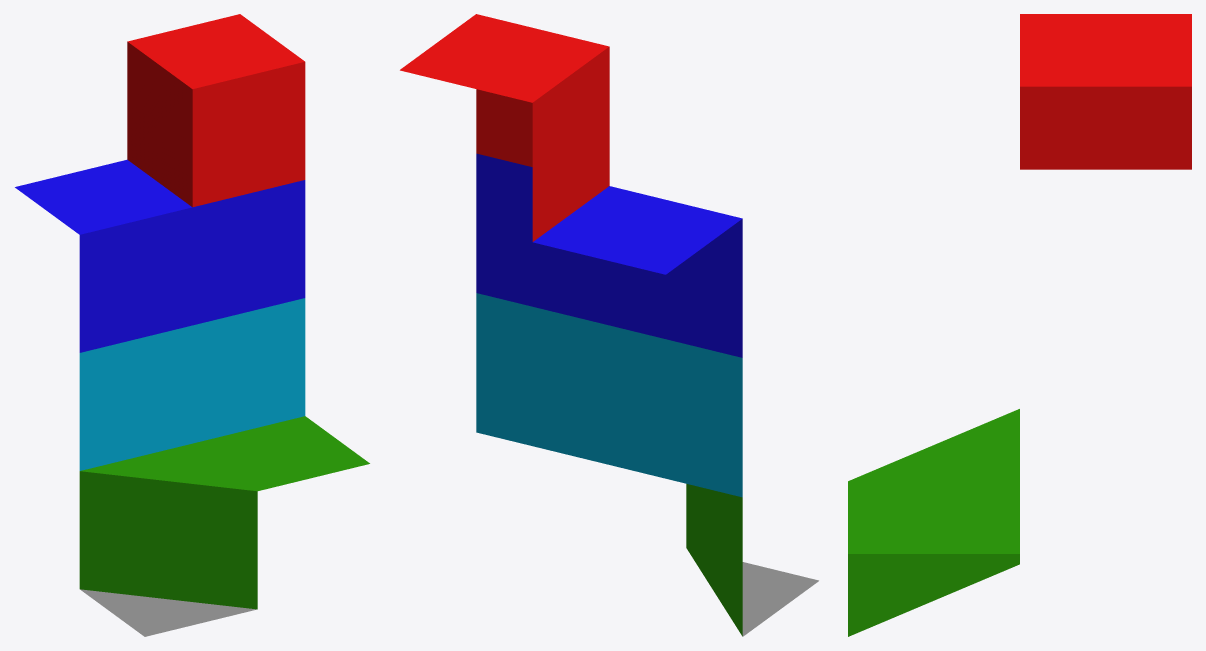
The picture shows the model from 3 angles, left to right: view 1: azimuth 30°, elevation 25°; view 2: azimuth 150°, elevation 25°; view 3: azimuth 270°, elevation 25°; orthographic projection. The views are drawn at different scales.
Parts seen in each view (by area): view 1: T_133b_0_0; view 2: T_133b_0_0; view 3: T_133b_0_0.
Boxes of the visible parts, <box> form: T_133b_0_0: <box>15,14,369,636</box>; T_133b_0_0: <box>400,14,818,636</box>; T_133b_0_0: <box>848,14,1191,636</box>.
Size of the model in its own units: 99.79 by 200 by 99.81.
